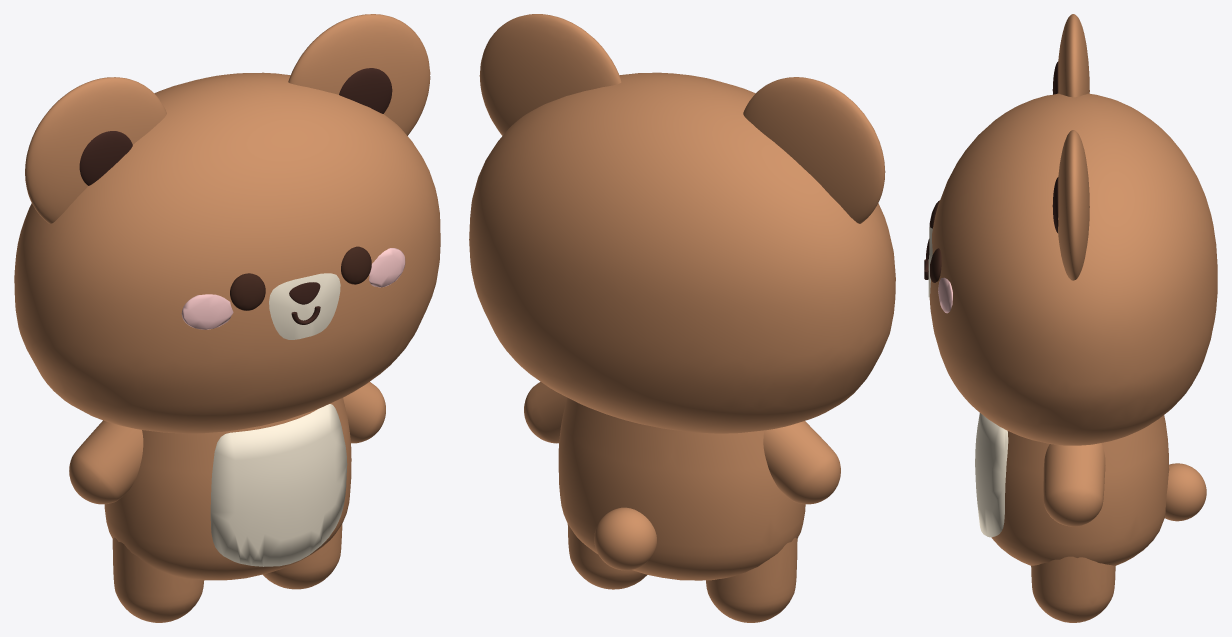
File: cute_bear.glb
3 views of the same model, side by side, from view 1: azimuth 30°, elevation 25°; view 2: azimuth 150°, elevation 25°; view 3: azimuth 270°, elevation 25° (orthographic). The views are drawn at different scales.
Visible parts, largest first — view 1: ras, wedhnen 1, kerch 2, bdan, iden _Material.006_0, sa9in, wedhnen 2, ras 2, 5doud, 3enin; view 2: ras, bdan, wedhnen 1, iden _Material.006_0, sa9in, ba3bous; view 3: ras, bdan, wedhnen 1, iden _Material.006_0, sa9in, kerch 2, ba3bous, wedhnen 2, 3enin, 5doud.
Part boxes in pixels (left/top/right/bottom): ras: left=14, top=72, right=440, bottom=433; wedhnen 1: left=25, top=14, right=430, bottom=223; kerch 2: left=210, top=404, right=347, bottom=566; bdan: left=104, top=398, right=351, bottom=580; iden _Material.006_0: left=69, top=382, right=385, bottom=504; sa9in: left=112, top=524, right=342, bottom=622; wedhnen 2: left=79, top=68, right=392, bottom=185; ras 2: left=269, top=273, right=340, bottom=339; 5doud: left=181, top=248, right=405, bottom=329; 3enin: left=230, top=246, right=371, bottom=310; ras: left=469, top=72, right=895, bottom=433; bdan: left=558, top=397, right=805, bottom=580; wedhnen 1: left=479, top=14, right=885, bottom=223; iden _Material.006_0: left=524, top=381, right=840, bottom=504; sa9in: left=567, top=524, right=797, bottom=622; ba3bous: left=594, top=507, right=656, bottom=570; ras: left=929, top=93, right=1217, bottom=445; bdan: left=991, top=415, right=1169, bottom=565; wedhnen 1: left=1058, top=14, right=1089, bottom=280; iden _Material.006_0: left=1043, top=443, right=1105, bottom=526; sa9in: left=1031, top=556, right=1115, bottom=622; kerch 2: left=975, top=413, right=1008, bottom=537; ba3bous: left=1165, top=463, right=1206, bottom=521; wedhnen 2: left=1052, top=61, right=1058, bottom=232; 3enin: left=929, top=200, right=941, bottom=282; 5doud: left=938, top=277, right=952, bottom=313.
Bounding box in the file's own units: 4.69 × 6.14 × 3.21.
